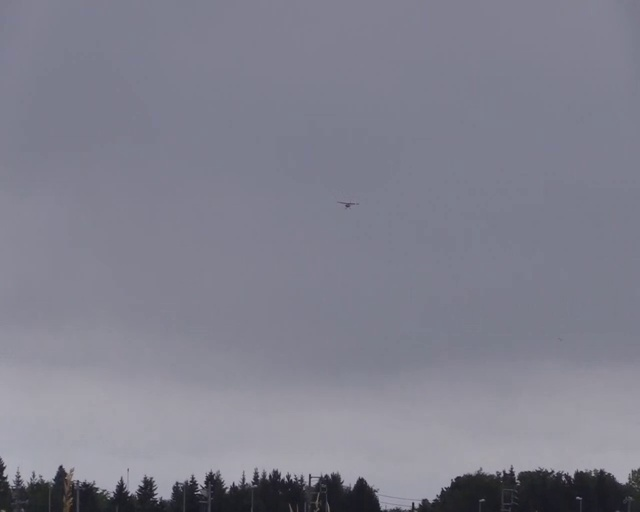AIRPLANE: (336, 200, 359, 208)
